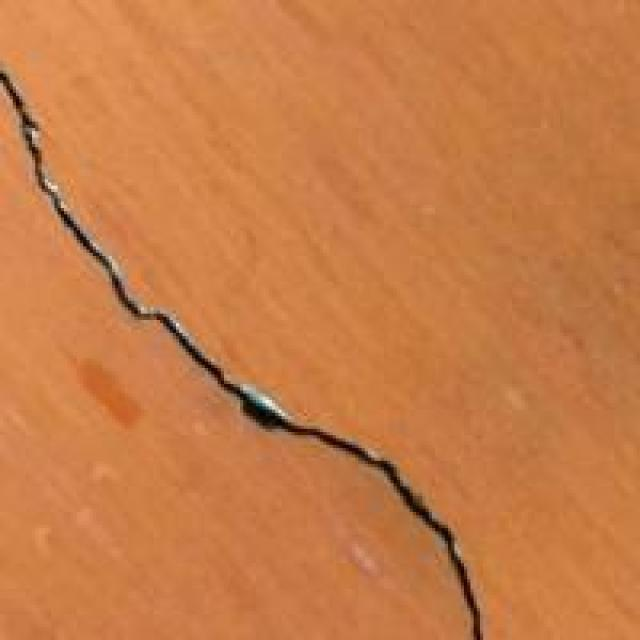crack: (0, 70, 506, 637)
